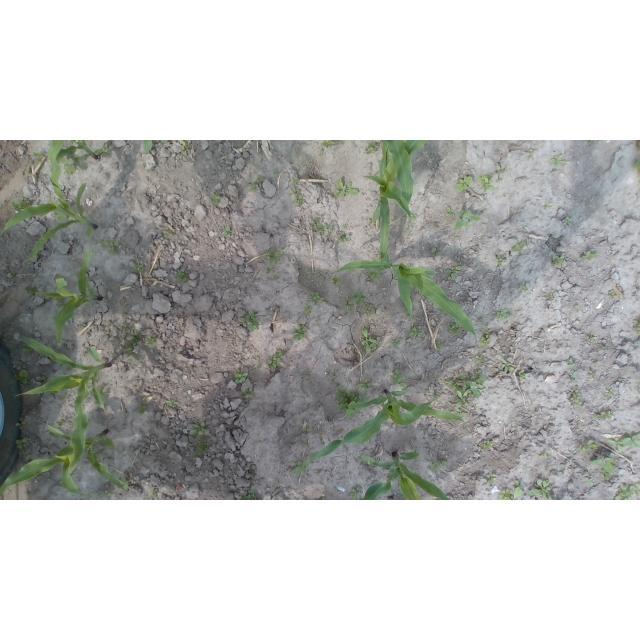Maize: (14, 334, 113, 476), (304, 388, 465, 466), (330, 263, 477, 342), (2, 424, 127, 499), (4, 178, 97, 263), (366, 140, 427, 264), (32, 246, 103, 346), (358, 453, 450, 500), (49, 141, 101, 188), (381, 141, 413, 204)
Weeds: (446, 369, 486, 417), (336, 390, 361, 419), (609, 430, 640, 453), (361, 328, 382, 352), (456, 208, 481, 228), (529, 479, 551, 500), (334, 178, 358, 197), (613, 484, 640, 500), (591, 456, 615, 473), (504, 361, 527, 378), (267, 349, 285, 369), (241, 311, 259, 331), (456, 174, 472, 192), (446, 265, 462, 283), (292, 323, 307, 342), (196, 436, 208, 459), (571, 386, 584, 407), (514, 480, 527, 500), (478, 174, 493, 191), (190, 423, 209, 436), (294, 459, 309, 475), (125, 335, 141, 350), (353, 291, 368, 306), (393, 369, 406, 386), (104, 240, 121, 253), (480, 328, 491, 348), (11, 198, 29, 210), (358, 377, 373, 391), (433, 457, 448, 471), (292, 188, 304, 205), (410, 325, 423, 340), (552, 155, 567, 168), (268, 249, 284, 261), (580, 251, 597, 262), (497, 308, 510, 322), (365, 141, 380, 153), (512, 242, 527, 254), (242, 489, 258, 500), (311, 292, 325, 304), (349, 486, 361, 500), (17, 370, 29, 384), (233, 373, 247, 385), (448, 324, 462, 335), (95, 143, 109, 154), (143, 140, 154, 154), (596, 410, 613, 419), (553, 256, 565, 268), (367, 271, 380, 282), (363, 303, 376, 314), (500, 489, 513, 500), (474, 355, 487, 366), (484, 441, 496, 452), (445, 207, 457, 218), (23, 165, 34, 177), (497, 166, 505, 182), (488, 473, 497, 487), (16, 436, 26, 448), (633, 318, 640, 334), (634, 159, 640, 177), (35, 151, 44, 163), (213, 191, 220, 206), (312, 217, 320, 230), (339, 234, 352, 242), (178, 272, 188, 282), (431, 246, 441, 256), (409, 212, 420, 221), (65, 166, 76, 175), (570, 371, 578, 383), (166, 399, 178, 407), (181, 143, 188, 156), (322, 141, 337, 147), (345, 301, 354, 311), (588, 439, 597, 449), (246, 389, 255, 399), (515, 282, 525, 291), (16, 419, 24, 430), (256, 175, 264, 186), (392, 340, 401, 349), (584, 478, 593, 487), (223, 226, 231, 236), (436, 340, 444, 350), (579, 445, 587, 455), (497, 258, 507, 266), (588, 331, 596, 341), (606, 389, 614, 398), (57, 418, 66, 426), (138, 406, 147, 414), (433, 396, 442, 404), (544, 202, 552, 211), (564, 217, 572, 226), (26, 286, 36, 293), (334, 278, 342, 286), (588, 370, 596, 378), (546, 293, 554, 301), (304, 307, 313, 314), (601, 472, 608, 481), (26, 346, 33, 355), (147, 338, 154, 347), (248, 182, 255, 191), (134, 264, 144, 270), (541, 452, 551, 458), (126, 351, 136, 357), (635, 140, 640, 152), (527, 153, 535, 160), (151, 492, 158, 499), (141, 398, 148, 405), (574, 305, 581, 312), (61, 158, 68, 165), (304, 426, 312, 432), (317, 270, 324, 276), (12, 271, 18, 278), (105, 327, 111, 334), (479, 318, 486, 324), (293, 176, 300, 181), (568, 359, 573, 366), (609, 294, 616, 299), (267, 267, 272, 273), (273, 276, 279, 281), (165, 230, 171, 235), (161, 141, 170, 144), (593, 360, 598, 365), (342, 224, 348, 228), (588, 141, 595, 144), (106, 490, 111, 494), (568, 468, 572, 472)
